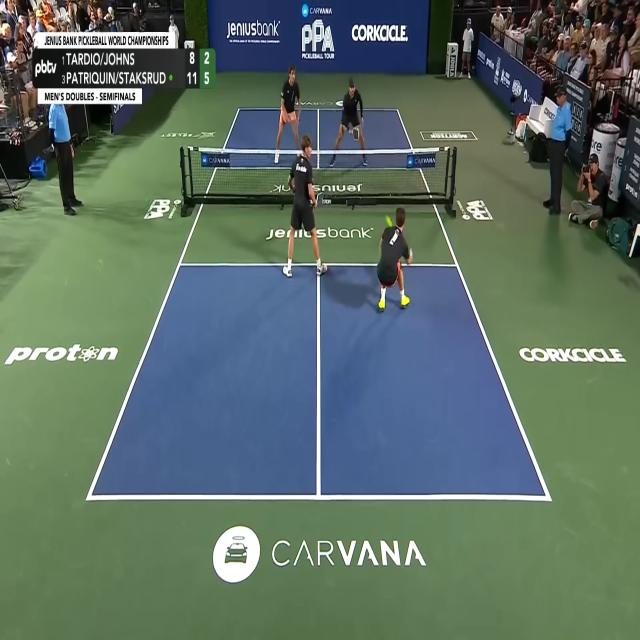ball: (385, 214, 392, 228)
